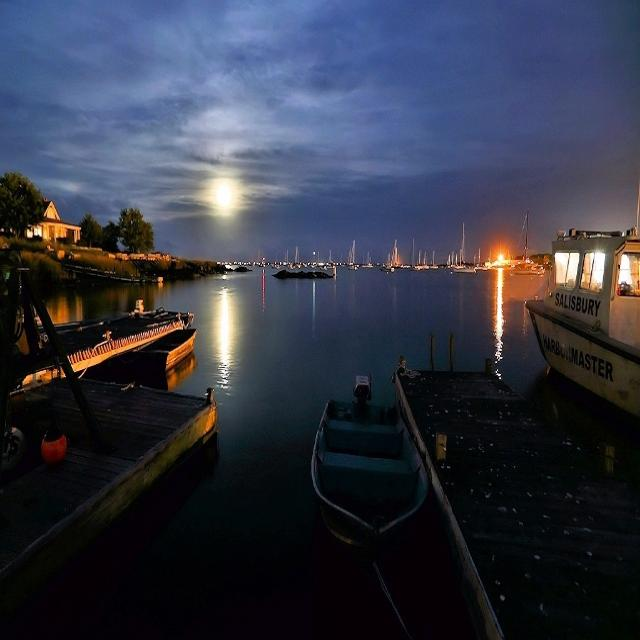Boat: (291, 366, 457, 578), (532, 225, 640, 445), (271, 255, 355, 304), (374, 239, 415, 285)
